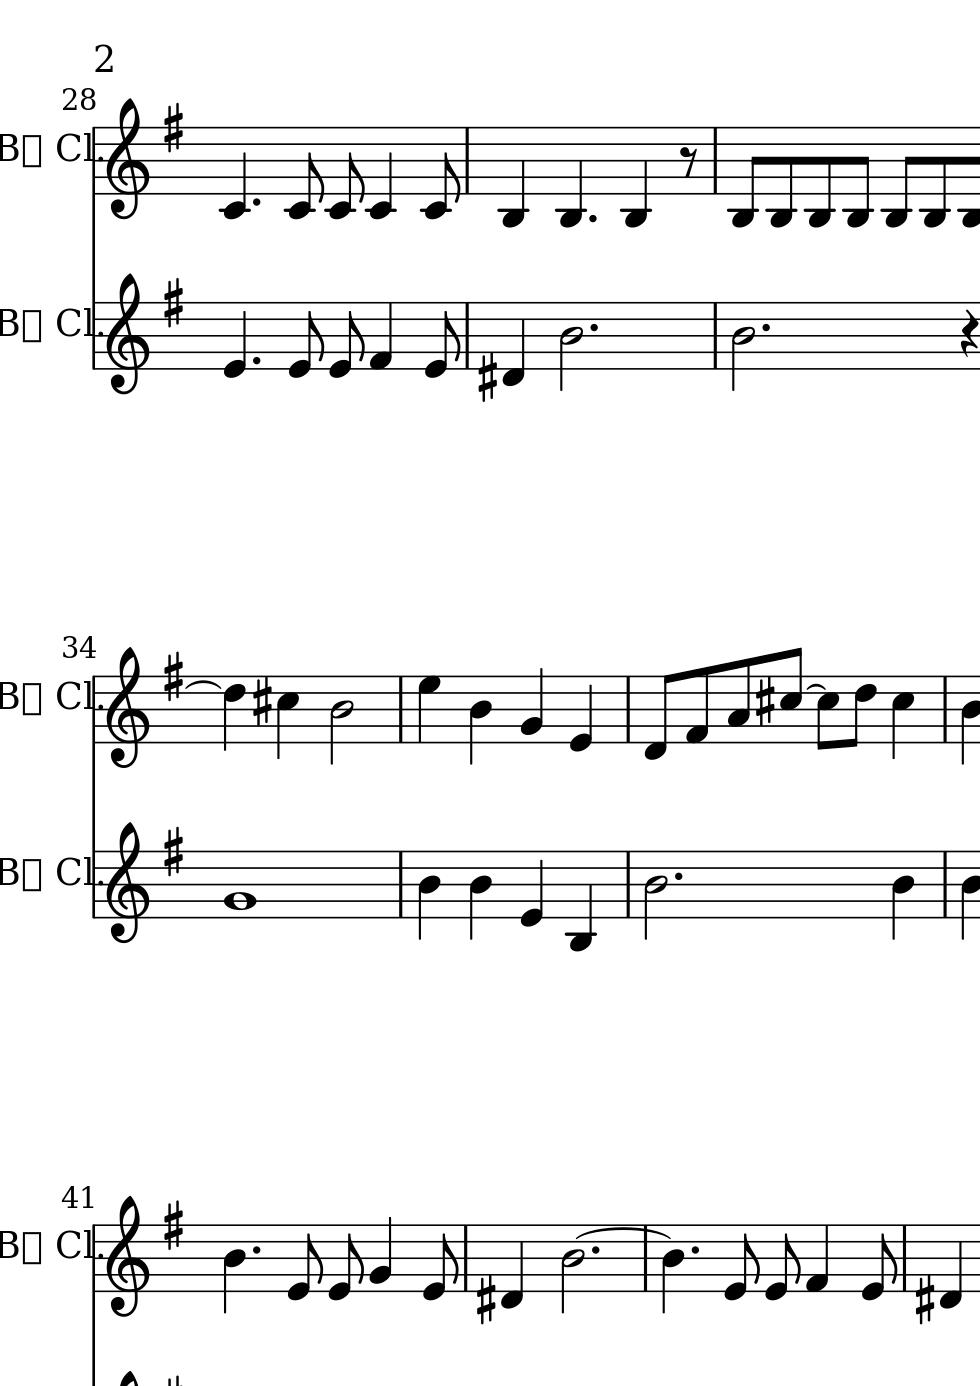1_2: (222, 849, 259, 920)
2: (92, 43, 113, 73), (60, 86, 78, 112)
2_4: (328, 672, 354, 765), (557, 301, 583, 392), (642, 848, 668, 940), (559, 1223, 585, 1314), (730, 301, 755, 392)
3: (62, 634, 78, 662)
4: (78, 634, 97, 662)
4_-1: (500, 300, 526, 388), (937, 1223, 963, 1311), (498, 1223, 524, 1311)
4_-2: (218, 124, 249, 222), (367, 125, 393, 222)
4_-3: (555, 123, 585, 230), (497, 125, 528, 231), (620, 124, 650, 231), (566, 847, 595, 955)
4_0: (566, 673, 594, 755), (221, 300, 248, 380), (518, 849, 544, 929)
4_1: (804, 1223, 830, 1294), (368, 300, 393, 372)
4_2: (518, 666, 546, 745), (368, 1215, 393, 1293)
4_4: (466, 848, 493, 941), (467, 673, 493, 766), (415, 849, 441, 942), (890, 849, 916, 940), (659, 1223, 684, 1315), (221, 1223, 245, 1315), (958, 674, 979, 766), (958, 849, 979, 941)
4_5: (889, 674, 914, 762), (275, 673, 299, 760)
4_6: (221, 674, 247, 754)
4_7: (415, 674, 442, 745)
8: (78, 86, 97, 113)
8_-1: (642, 670, 676, 762)
8_-2: (420, 124, 462, 221), (282, 123, 323, 220), (327, 124, 366, 222)
8_-3: (727, 126, 762, 231), (881, 126, 915, 230), (918, 127, 949, 230), (767, 125, 797, 230), (805, 124, 834, 229), (844, 124, 872, 229)
8_0: (859, 1223, 897, 1303), (285, 1222, 322, 1303), (421, 1222, 458, 1302), (286, 300, 323, 380), (764, 1224, 801, 1303), (423, 300, 460, 379), (723, 1223, 759, 1302), (329, 301, 364, 380), (329, 1223, 363, 1302)
8_1: (684, 665, 711, 745)
8_3: (724, 657, 751, 745)
8_5: (776, 647, 803, 747), (813, 674, 841, 753)
8_6: (845, 674, 877, 750)
Cl: (56, 303, 91, 338), (55, 678, 91, 712), (55, 853, 90, 887), (56, 1228, 90, 1262), (55, 131, 89, 164)
Gclef: (103, 646, 152, 771), (104, 271, 152, 398), (104, 1194, 151, 1320), (104, 820, 151, 945), (105, 97, 151, 221)
Rests4: (959, 308, 978, 358)
Rests8: (677, 145, 699, 179)
Sharp: (158, 275, 185, 332), (160, 101, 185, 157), (160, 825, 185, 879), (160, 1200, 183, 1253), (474, 1274, 497, 1326), (161, 651, 183, 704), (250, 676, 273, 729), (476, 351, 498, 403), (913, 1273, 935, 1324), (754, 676, 775, 726)
Single_barline: (392, 676, 410, 741), (619, 676, 636, 743), (937, 676, 953, 742), (937, 850, 953, 917), (392, 852, 409, 918), (457, 1225, 474, 1291), (637, 1226, 654, 1292), (896, 1225, 912, 1291), (89, 676, 104, 745), (88, 127, 103, 196), (707, 127, 722, 195), (620, 852, 635, 918), (459, 128, 474, 194), (89, 850, 103, 919), (89, 1224, 103, 1292), (708, 303, 722, 369), (460, 303, 474, 368), (89, 302, 101, 370)
Slur: (575, 1228, 668, 1240), (183, 680, 222, 691), (805, 682, 826, 691)
dot: (249, 194, 263, 210), (671, 869, 685, 884), (587, 320, 600, 335), (248, 1243, 263, 1257), (758, 320, 772, 334), (688, 1243, 701, 1257), (249, 354, 262, 367), (589, 1245, 601, 1257)
